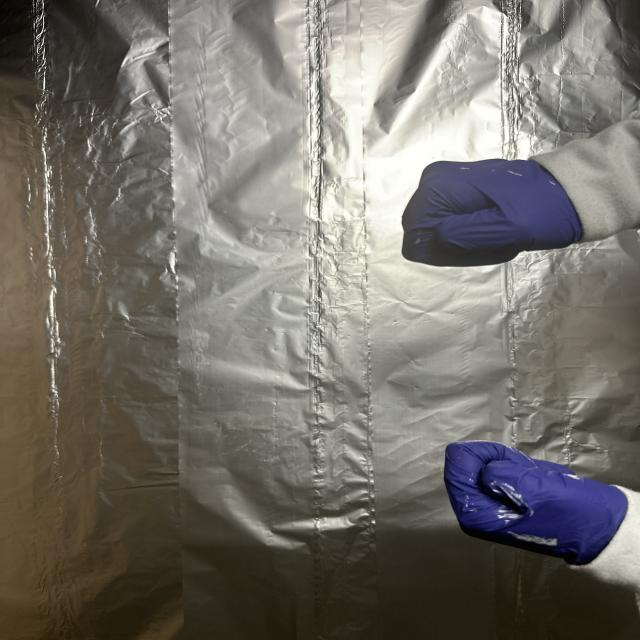gloves_contaminated: (444, 441, 628, 565), (402, 159, 582, 266)
